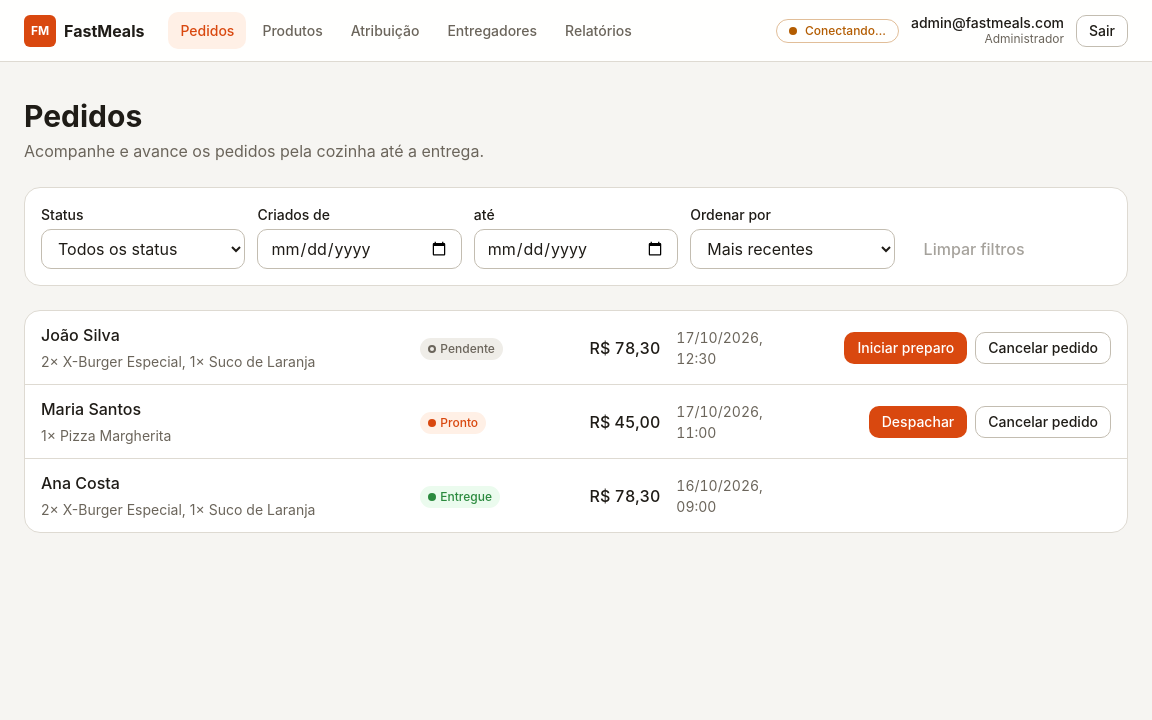
Test case: Painel de pedidos › avança o status pelo botão contextual e a lista se atualiza
What coordinates should you click on to do the following:
click the button "Iniciar preparo"
I would click on:
 (906, 348)
Its box is [844,332,967,364].
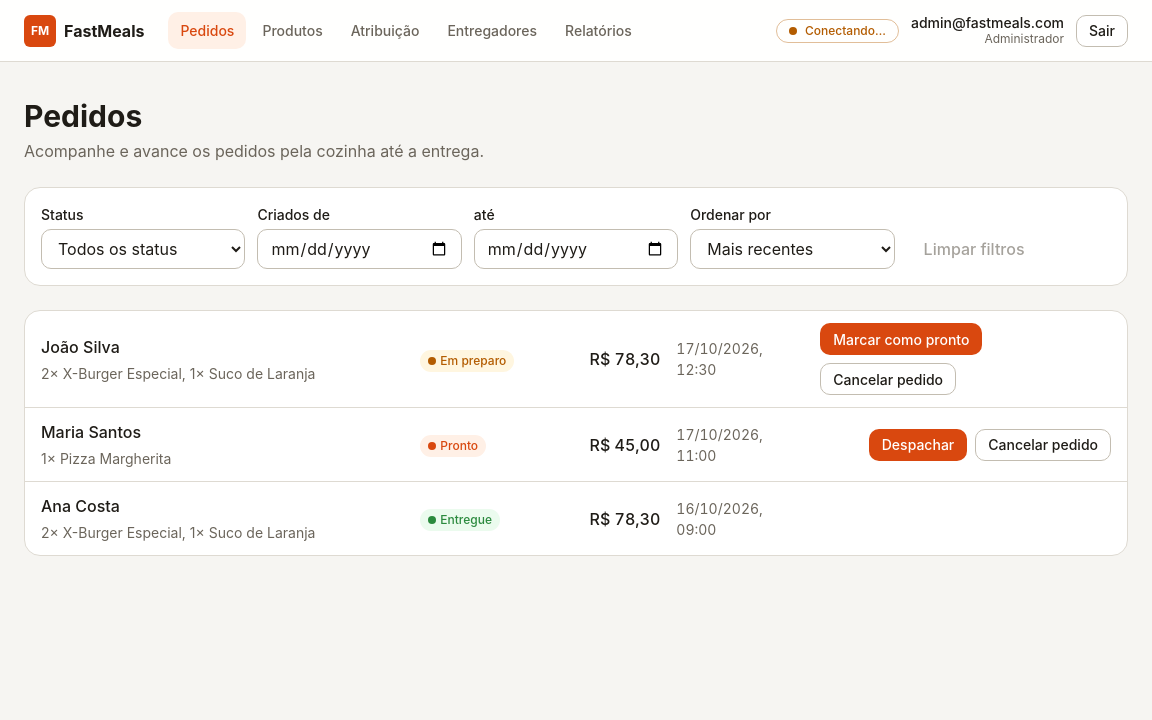
Expected: the button "Marcar como pronto" is enabled, [820,323,982,355]
Now the text "Em preparo" is shown, box [420,350,514,372]
